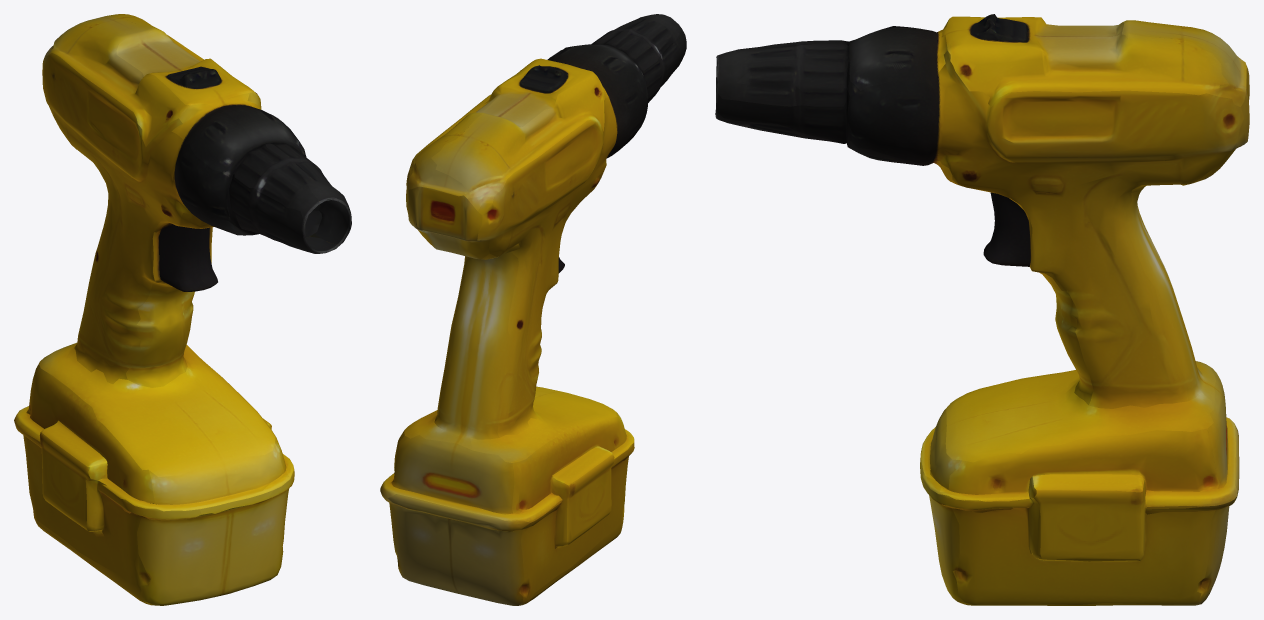
3 renders of one model, left to right at view 1: azimuth 30°, elevation 25°; view 2: azimuth 150°, elevation 25°; view 3: azimuth 270°, elevation 25°, orthographic. The views are drawn at different scales.
Visible parts, largest first — view 1: geometry_0; view 2: geometry_0; view 3: geometry_0.
Boxes of the visible parts, <box> form: geometry_0: <box>14,14,351,605</box>; geometry_0: <box>380,14,686,605</box>; geometry_0: <box>715,14,1249,605</box>.
Bounding box in the file's own units: 0.0753 × 0.1975 × 0.1729.
